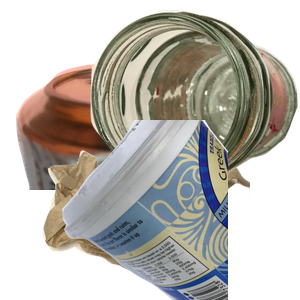glass: (90, 10, 300, 184)
metal: (13, 61, 240, 241)
plastic: (60, 120, 300, 300)
trash: (40, 138, 280, 300)
